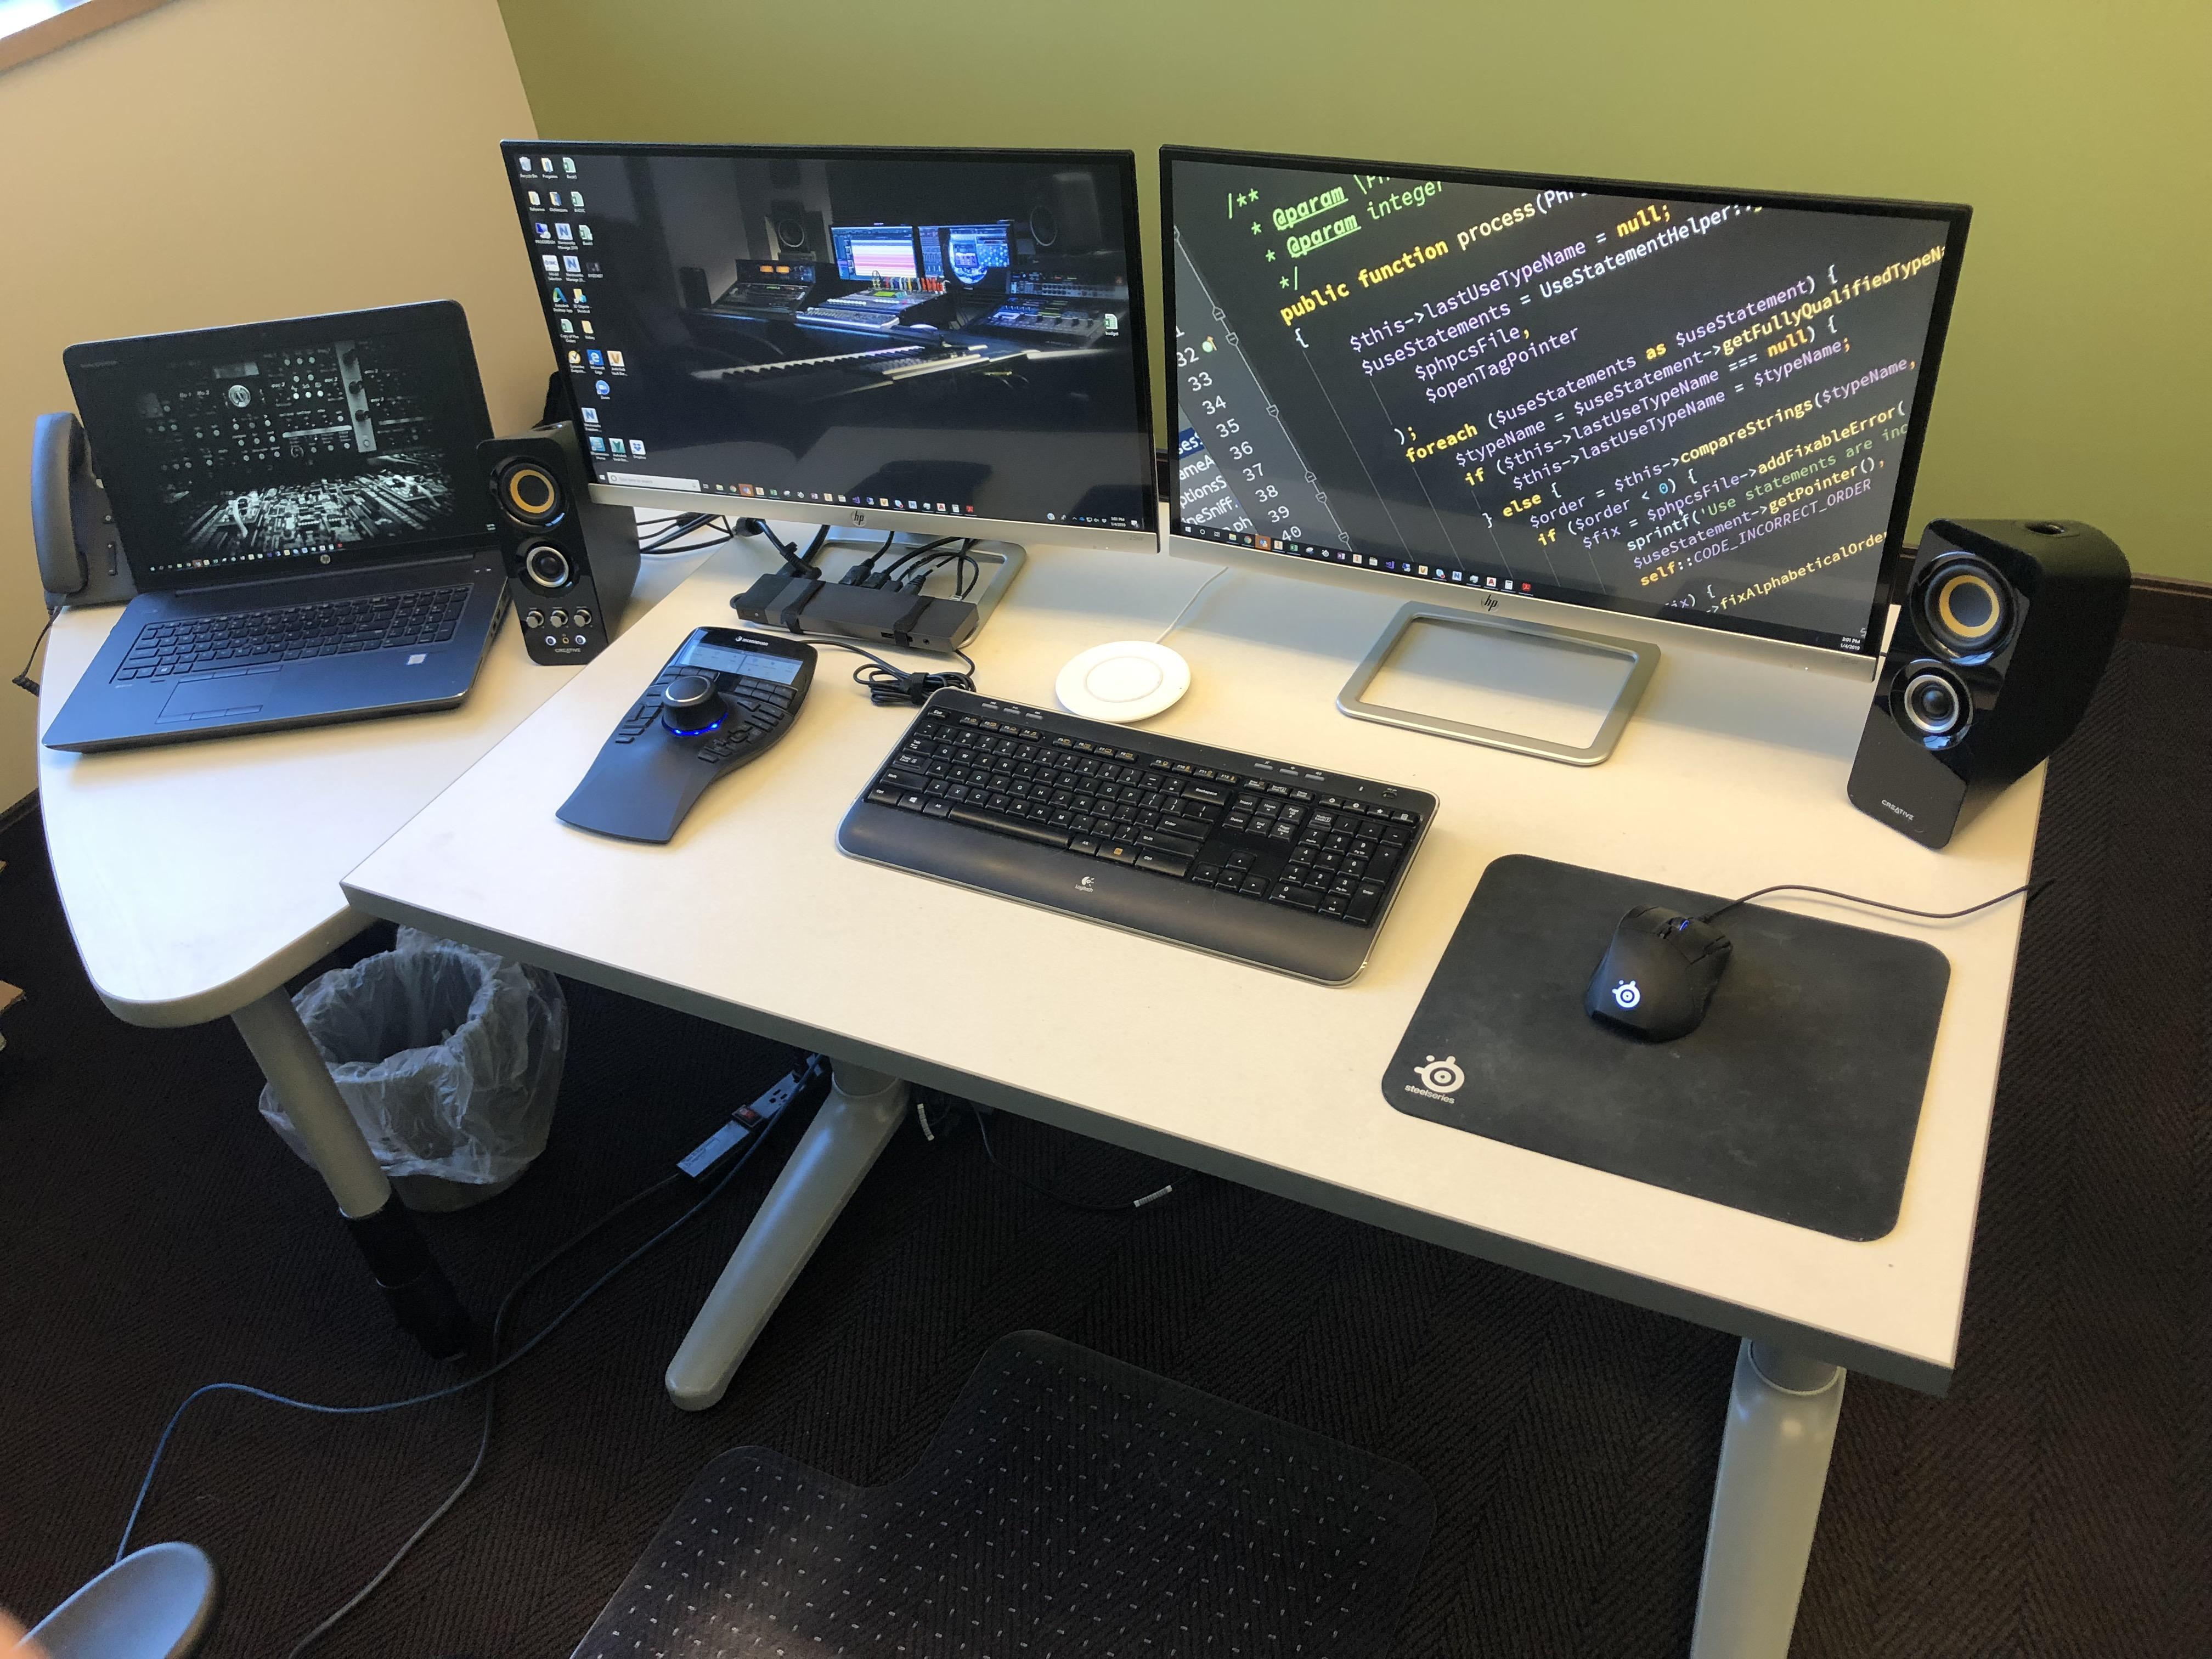Cellphone Charger (Wireless): (1040, 620, 1224, 741)
Desk (Generic): (35, 268, 2097, 1659)
External Speakers (Subwoofers): (1850, 483, 2130, 852), (482, 410, 646, 673)
Keyboard (Ergonomic): (820, 676, 1435, 1004)
Laptop (Windows): (31, 296, 533, 756)
Monitor (Landscape): (1160, 132, 1979, 769), (493, 134, 1158, 633)
Monitor (Laptop): (47, 295, 521, 592)
Mouse (Gaming): (1559, 873, 1754, 1072)
Mousepad (Generic): (1379, 856, 1952, 1241)
Power Strip: (653, 1030, 859, 1187)
Telephone: (24, 403, 165, 617)
Trash Can: (256, 939, 577, 1222)
